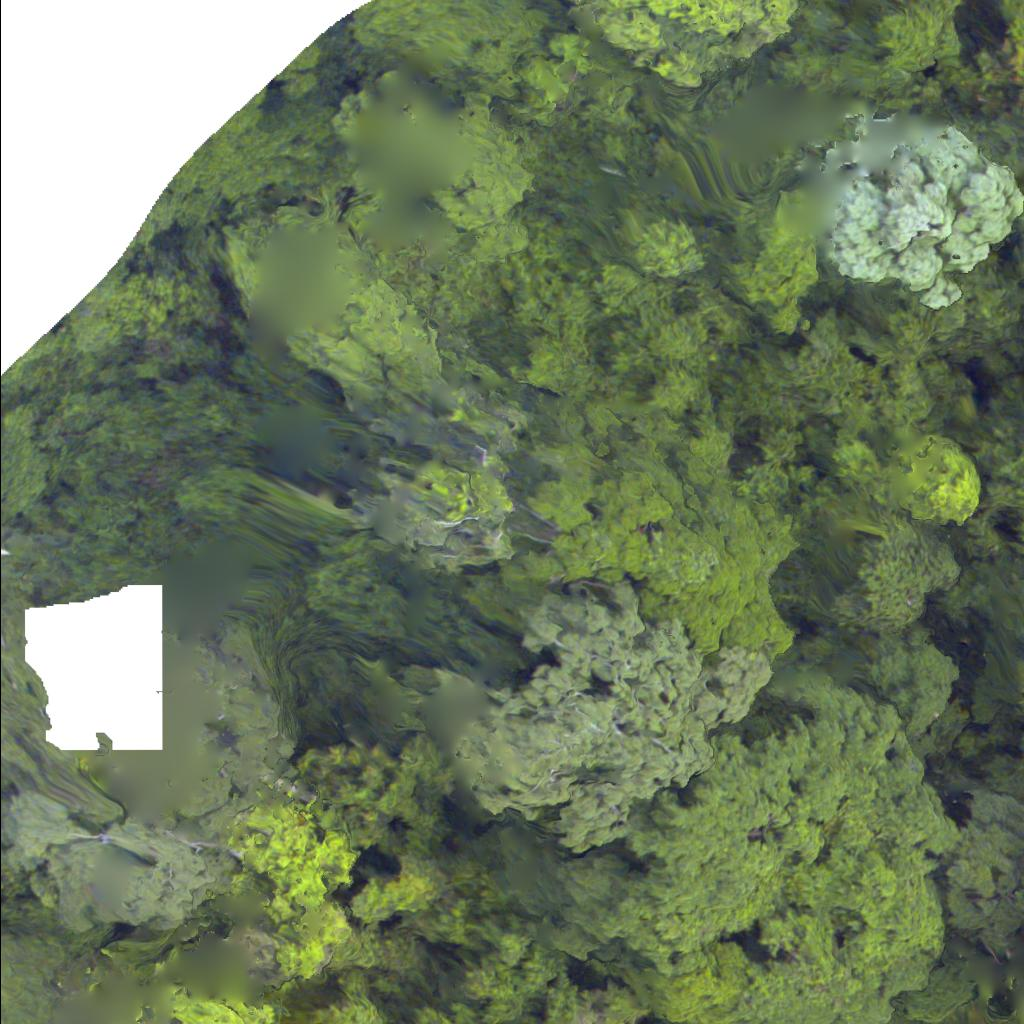crown: (586, 688, 926, 1023), (424, 590, 779, 837), (818, 111, 1023, 312), (569, 0, 790, 76), (157, 990, 270, 1023), (1020, 649, 1023, 686)
